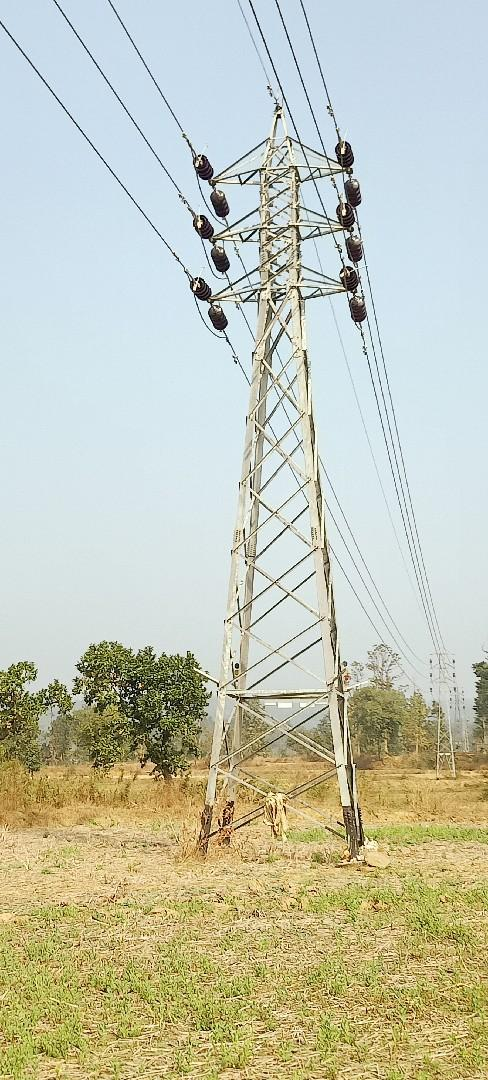GSM Antenna: (177, 96, 382, 809)
